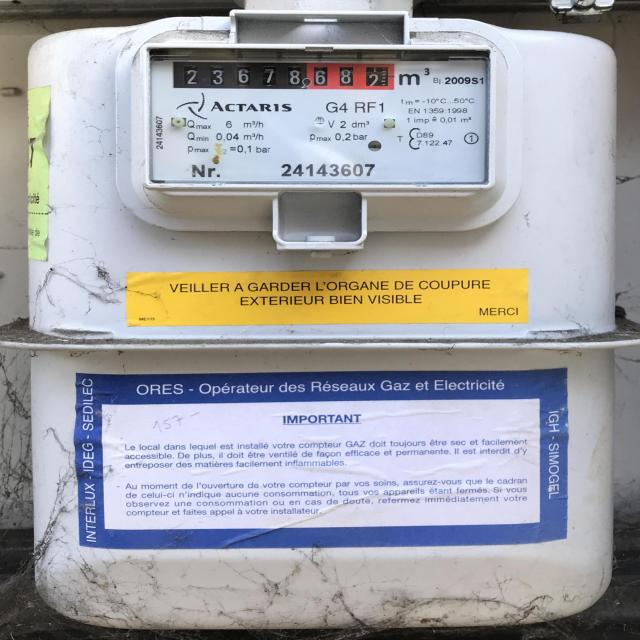gaz_meter: (146, 44, 489, 190)
indication: (171, 60, 391, 90)
